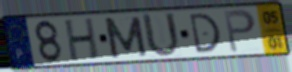8: (33, 18, 65, 65)
D: (187, 11, 223, 55)
H: (63, 16, 101, 63)
M: (101, 15, 150, 60)
P: (222, 8, 258, 55)
U: (140, 11, 182, 59)
